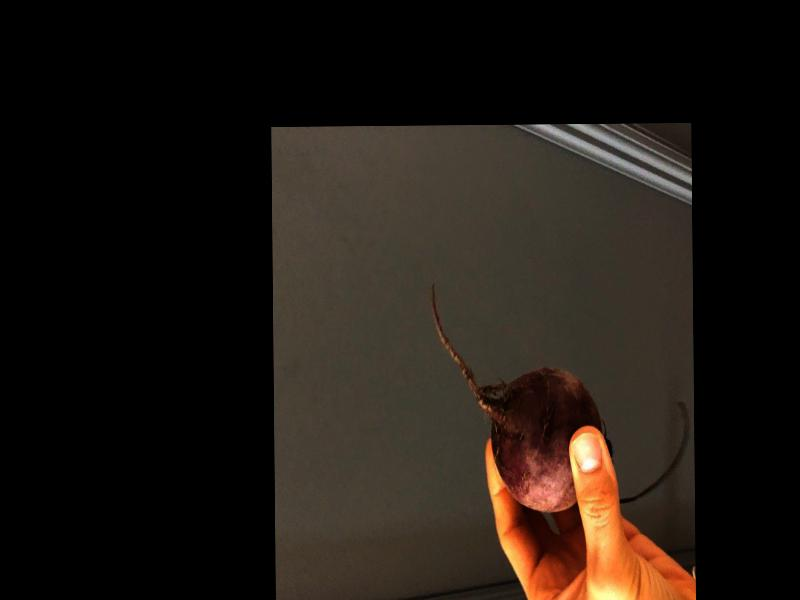Beet: (431, 278, 690, 512)
